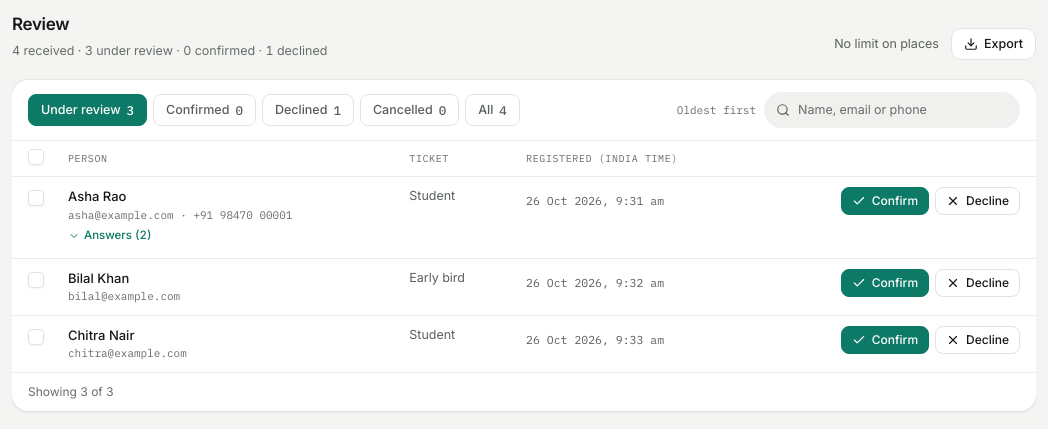
deciding › confirms one from its row: it leaves Under review and the counts move
What coordinates should you click on to do the following:
click the button with aria-label "Confirm Asha Rao"
I would click on:
 (885, 201)
Its box is [841,187,929,215].
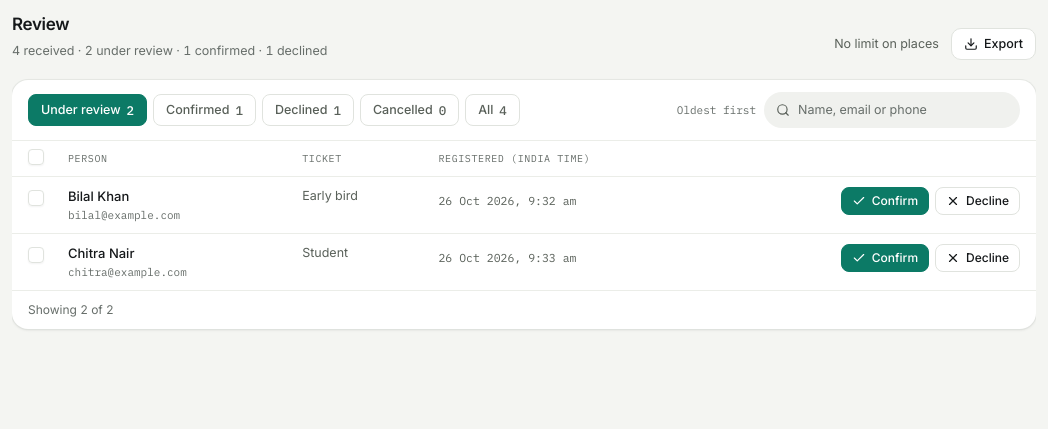
Check: the text "Asha Rao" is gone
Check: the button "Under review 2" is shown, box [28,94,147,126]
Check: the button "Confirmed 1" is shown, box [153,94,256,126]
